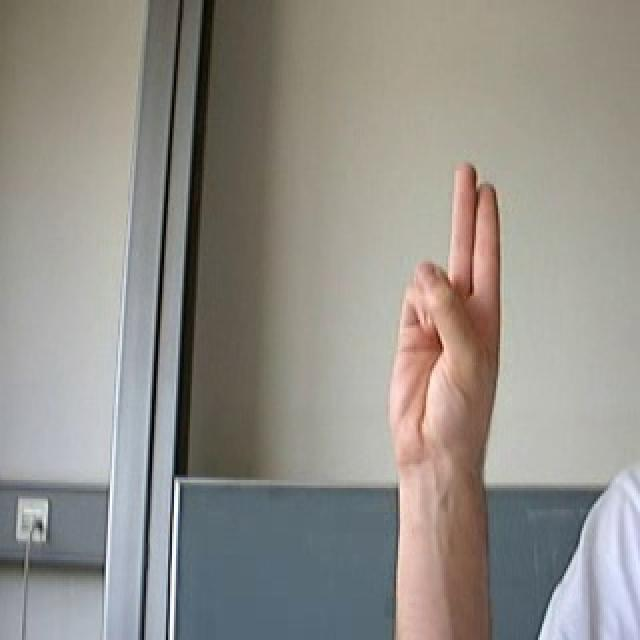U: (364, 140, 540, 511)
